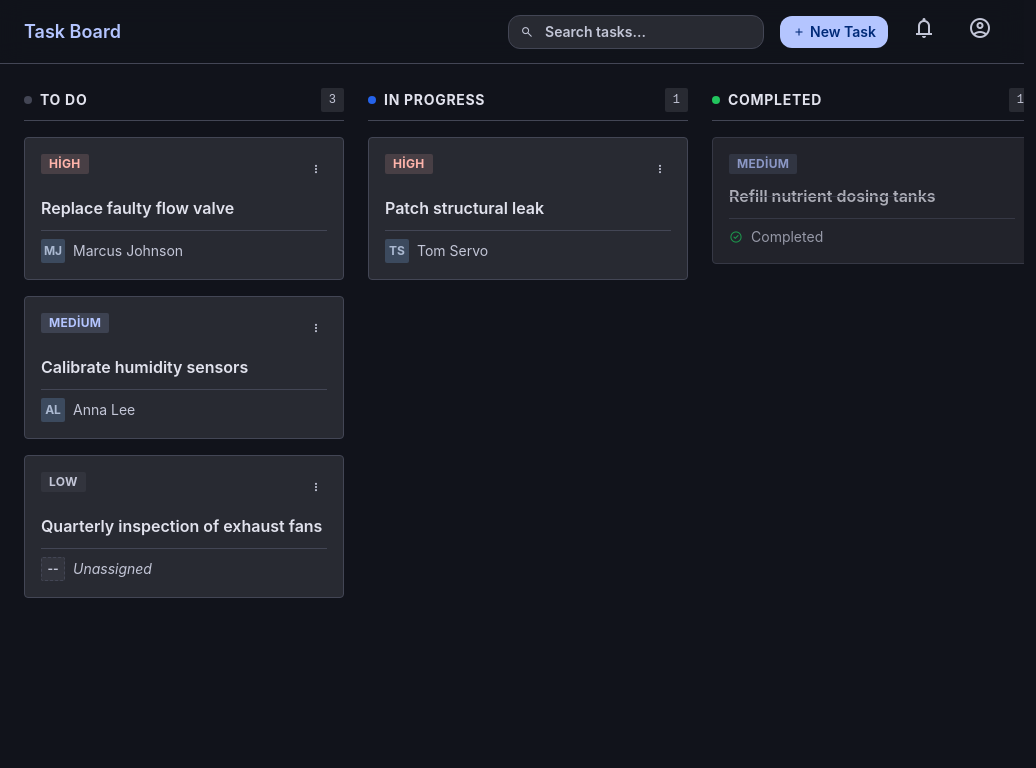
it: TaskBoard › filters tasks by search
Type "valve" into the field with placeholder "Search tasks...".
click(636, 32); type("valve")  # box [508,14,764,48]
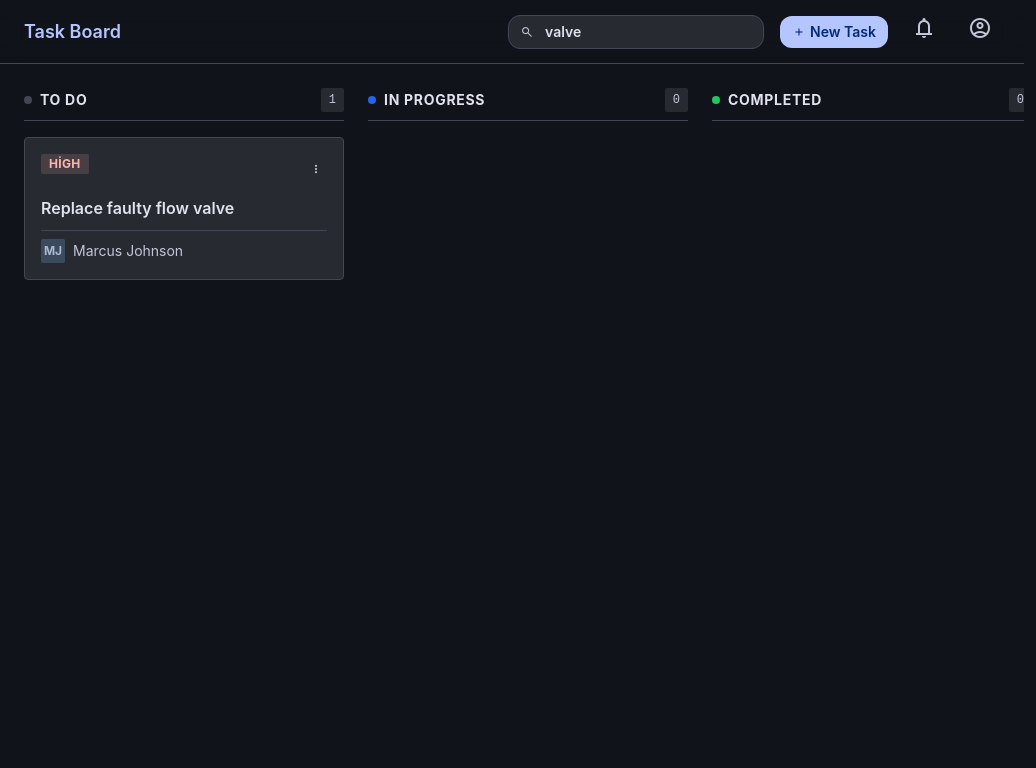
Expected: the heading "Replace faulty flow valve" is shown, [41,198,234,218]
Result: the heading "Calibrate humidity sensors" is gone
